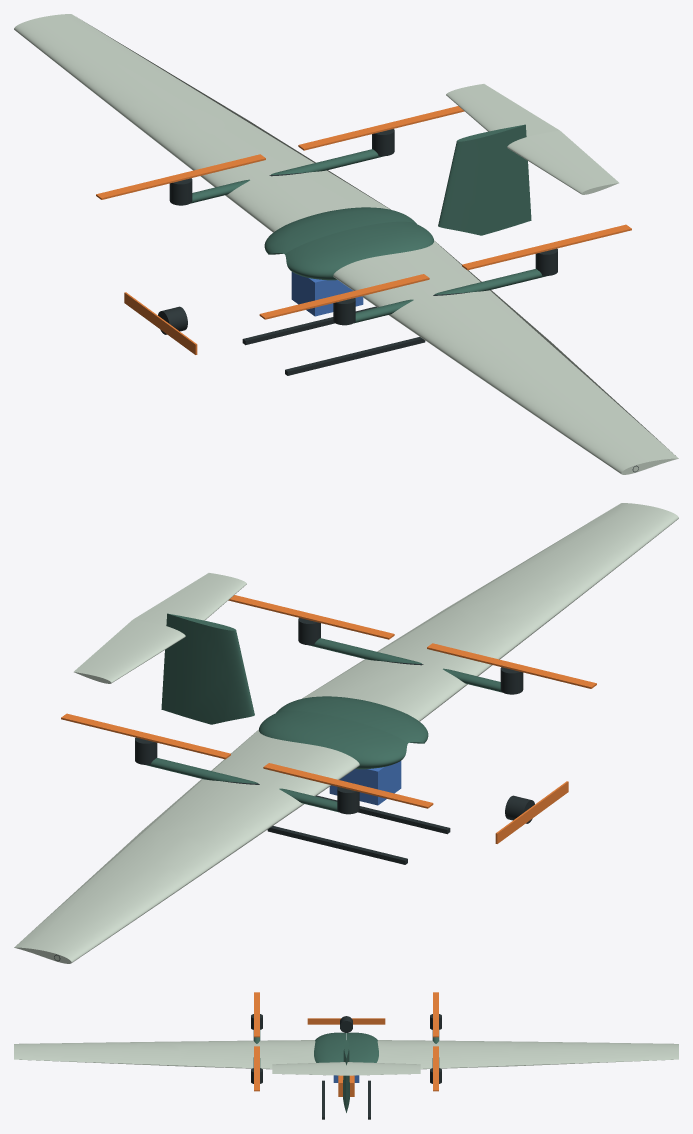
Rendered from surface_tools-07-internal.glb.
3 renders of one model, top to bottom at view 1: azimuth 30°, elevation 25°; view 2: azimuth 150°, elevation 25°; view 3: azimuth 270°, elevation 25°, orthographic. The views are drawn at different scales.
Visible parts, largest first — view 1: wing-1, wing1, fin, root_fairing-1, tail-1, root_fairing1, tail1, payload, boom_fairing-1, boom_fairing1, prop_-1_200.0, prop_-1_700.0 (+5 smaller); view 2: wing1, wing-1, fin, root_fairing1, tail1, root_fairing-1, tail-1, payload, boom_fairing1, boom_fairing-1, prop_1_200.0, prop_1_700.0 (+5 smaller); view 3: wing-1, wing1, tail-1, tail1, root_fairing-1, root_fairing1, cruise_prop, fin, prop_-1_200.0, prop_-1_700.0, prop_1_200.0, prop_1_700.0 (+1 smaller).
Part boxes in pixels (bbox=[...]): wing-1: bbox=[333, 240, 678, 474]; wing1: bbox=[14, 14, 390, 232]; fin: bbox=[438, 124, 531, 235]; root_fairing-1: bbox=[285, 221, 433, 280]; tail-1: bbox=[507, 130, 618, 194]; root_fairing1: bbox=[264, 207, 416, 254]; tail1: bbox=[446, 84, 559, 136]; payload: bbox=[291, 272, 363, 316]; boom_fairing-1: bbox=[354, 269, 546, 323]; boom_fairing1: bbox=[190, 149, 383, 203]; prop_-1_200.0: bbox=[259, 274, 429, 319]; prop_-1_700.0: bbox=[462, 224, 631, 270]; wing1: bbox=[14, 729, 359, 963]; wing-1: bbox=[302, 503, 678, 721]; fin: bbox=[161, 613, 254, 724]; root_fairing1: bbox=[259, 710, 407, 769]; tail1: bbox=[74, 619, 185, 683]; root_fairing-1: bbox=[276, 696, 428, 743]; tail-1: bbox=[133, 573, 246, 625]; payload: bbox=[329, 761, 401, 805]; boom_fairing1: bbox=[146, 758, 338, 812]; boom_fairing-1: bbox=[309, 638, 502, 692]; prop_1_200.0: bbox=[263, 763, 433, 808]; prop_1_700.0: bbox=[61, 713, 230, 759]; wing-1: bbox=[14, 1040, 315, 1069]; wing1: bbox=[377, 1040, 678, 1069]; tail-1: bbox=[272, 1062, 346, 1075]; tail1: bbox=[346, 1062, 420, 1075]; root_fairing-1: bbox=[314, 1032, 346, 1062]; root_fairing1: bbox=[346, 1032, 378, 1062]; cruise_prop: bbox=[307, 1018, 385, 1024]; fin: bbox=[343, 1040, 349, 1112]; prop_-1_200.0: bbox=[254, 992, 259, 1037]; prop_-1_700.0: bbox=[254, 1046, 259, 1091]; prop_1_200.0: bbox=[433, 992, 438, 1037]; prop_1_700.0: bbox=[433, 1046, 438, 1091].
Bounding box in the file's own units: 989 × 405 × 2600.
